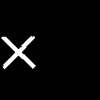single_crochet: (2, 36, 34, 68)
